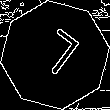L_SW: (27, 26, 83, 84)
